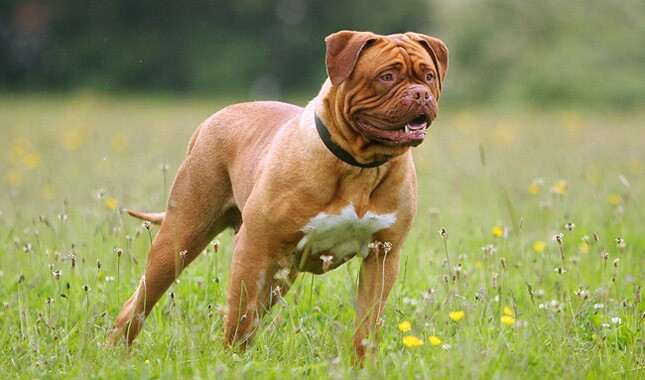dogue_de_bordeaux: (109, 30, 448, 369)
